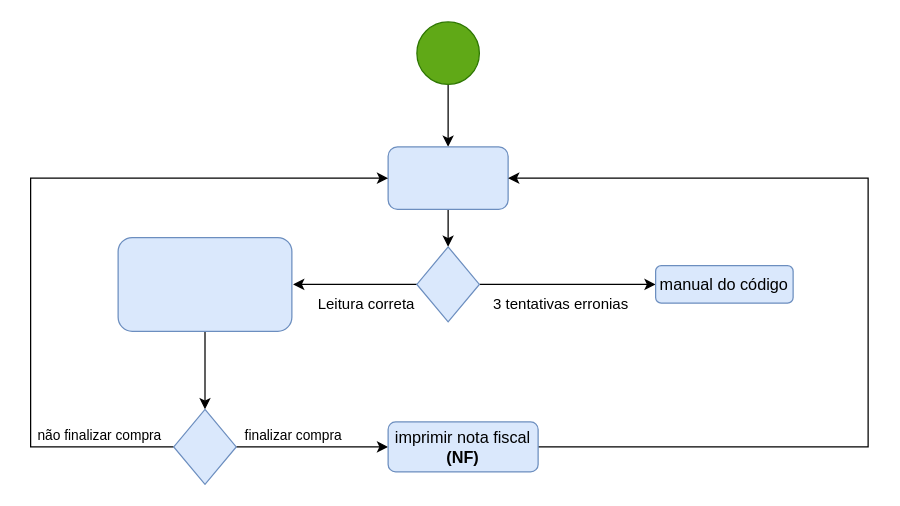
This 900x506 diagram has some shape labels left out. The box of each missing label's shape, as (x1, y1, x2, y2) in pixels:
ler código de barras (CB): (387, 146, 508, 209)
somar cada ( CB) informado para chegar ao valor total da compra (VT): (117, 236, 292, 331)
